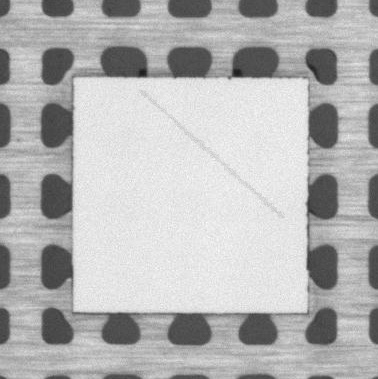DIE_CRACK: (141, 91, 281, 217)
